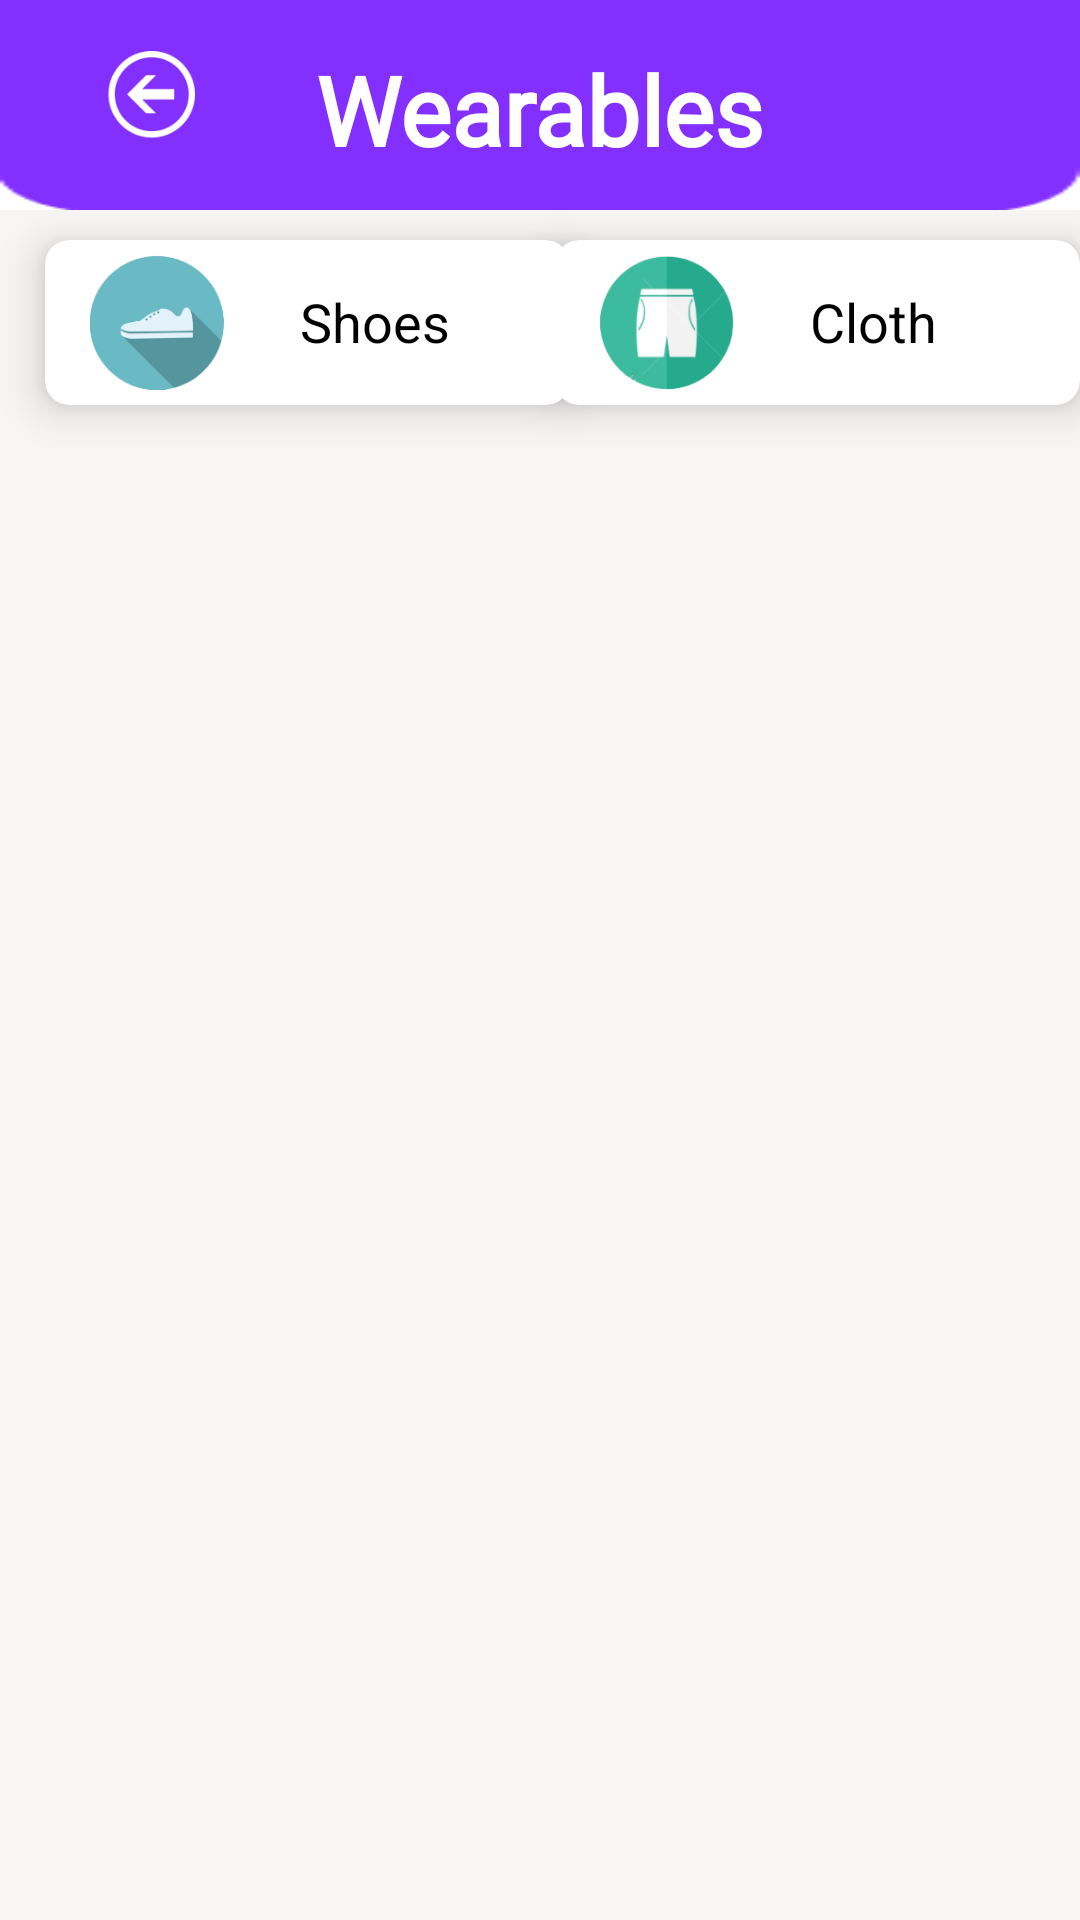

Named icons in this screenshot (1080 x 1920) and their centers, (x=x, y=y):
back: (x=151, y=94)
